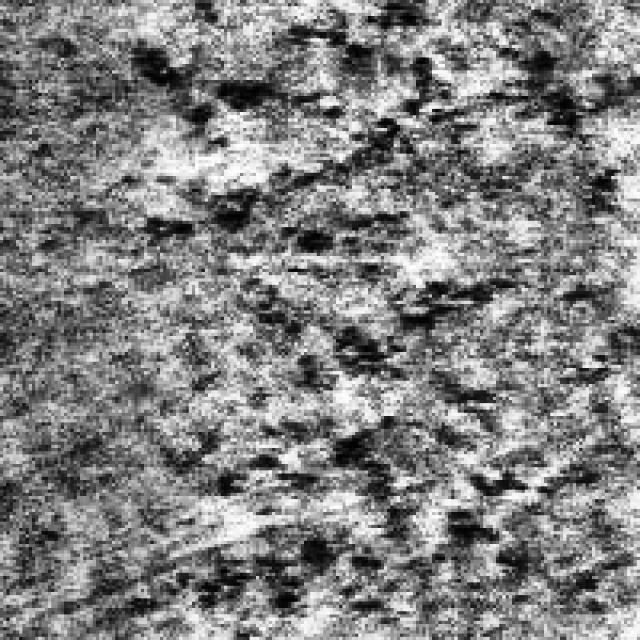Crazing: (109, 3, 576, 298), (192, 262, 547, 624)
